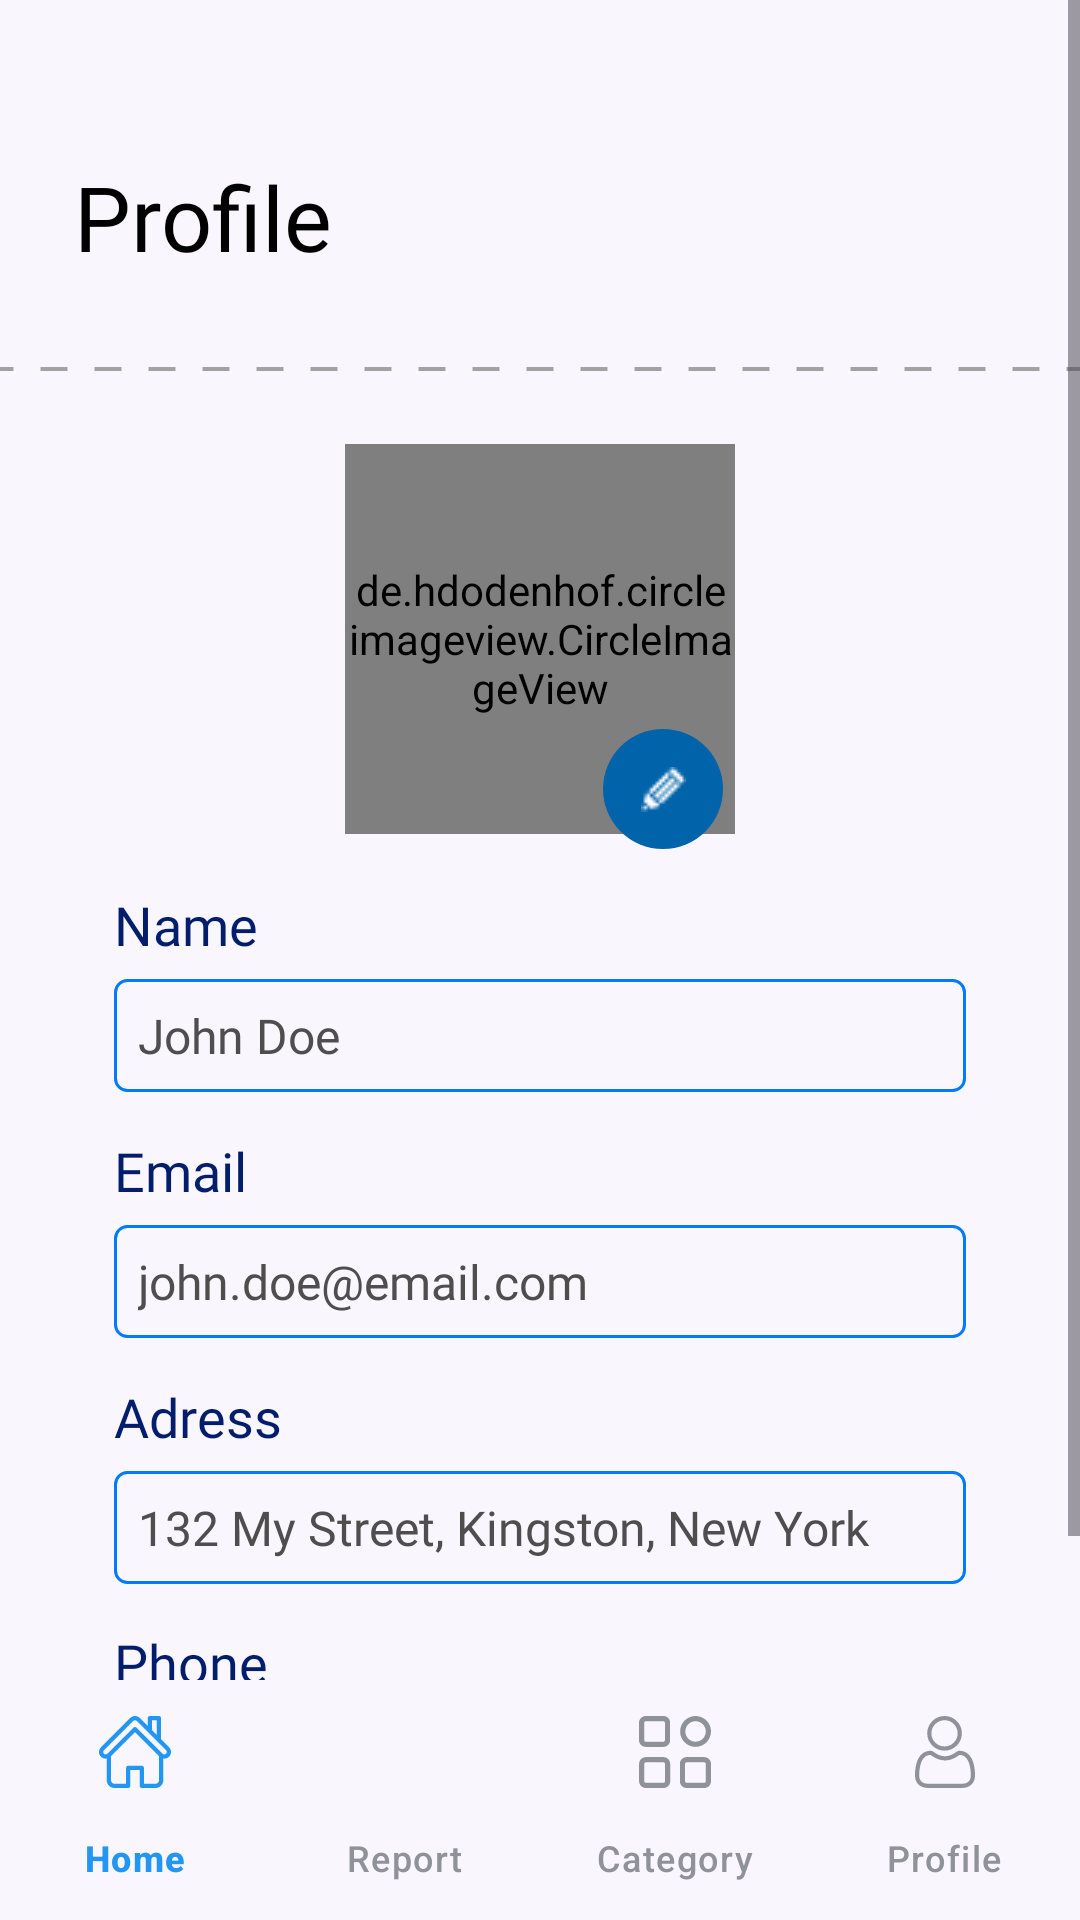

Named icons in this screenshot (1080px x 1920px) and their bounding boxes, {"x1": x1, "y1": y1, "x2": x2, "y2": y2}:
pencil profile: {"x1": 641, "y1": 767, "x2": 686, "y2": 812}
